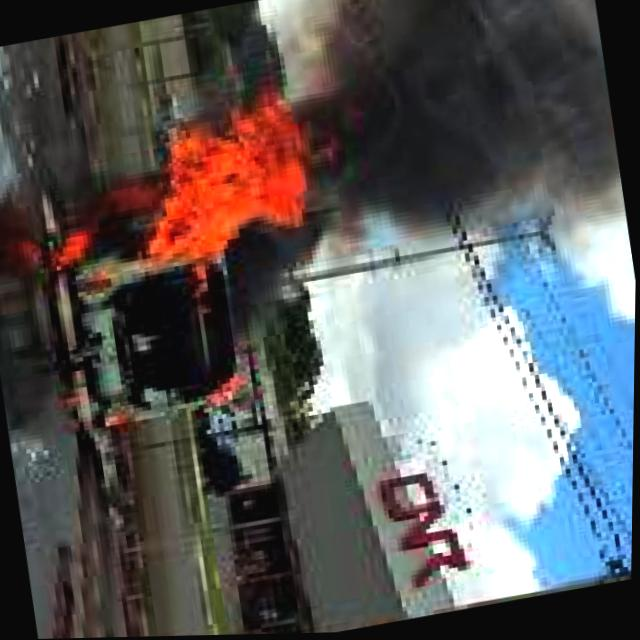smoke: (297, 0, 631, 279)
